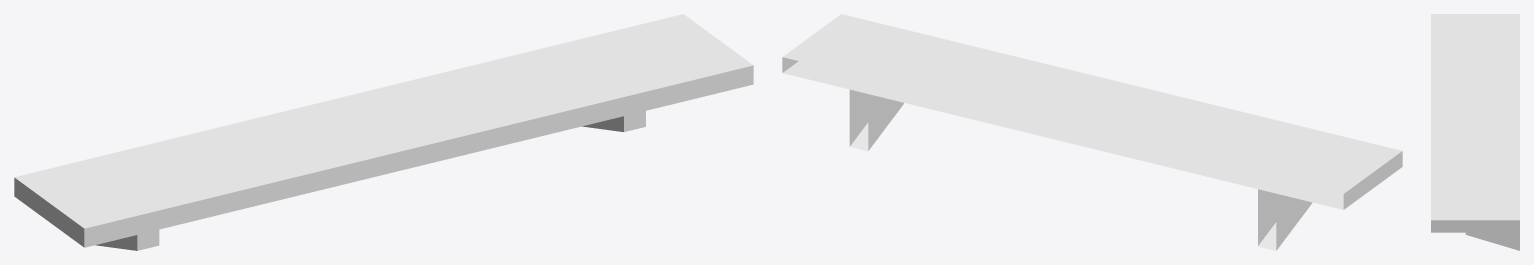
Rendered from Shelves_1A.fbx.
The picture shows the model from 3 angles, left to right: view 1: azimuth 30°, elevation 25°; view 2: azimuth 150°, elevation 25°; view 3: azimuth 270°, elevation 25°; orthographic projection. The views are drawn at different scales.
Visible parts, largest first — view 1: polySurface1498; view 2: polySurface1498; view 3: polySurface1498.
Part boxes in pixels (x1,y1,x2,y2): polySurface1498: (14, 14, 753, 250); polySurface1498: (782, 14, 1402, 250); polySurface1498: (1431, 14, 1519, 250).
Bounding box in the file's own units: 2.2 × 0.2748 × 0.4.
1 material, 1 textured.
